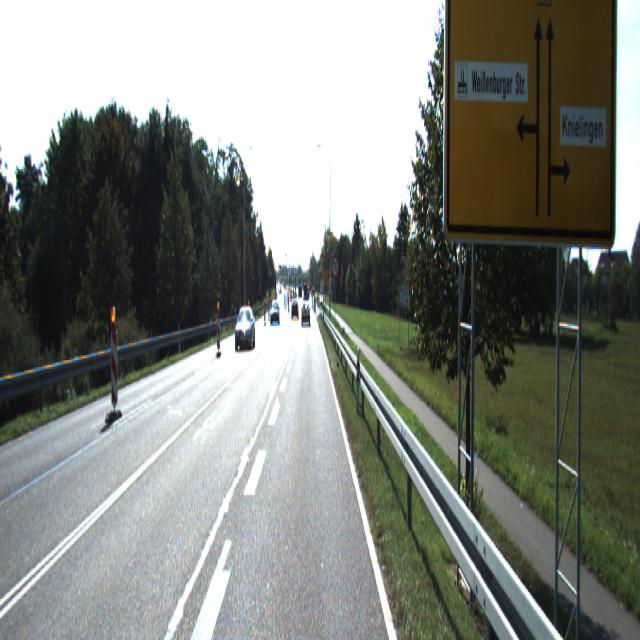Car: (234, 305, 255, 354), (302, 302, 310, 324)
